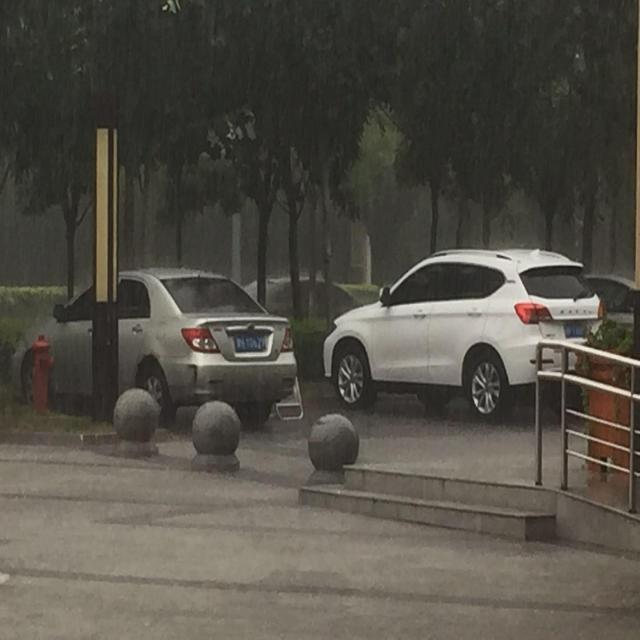car: (322, 247, 604, 425), (11, 267, 297, 429), (244, 266, 366, 321), (584, 272, 640, 332)
